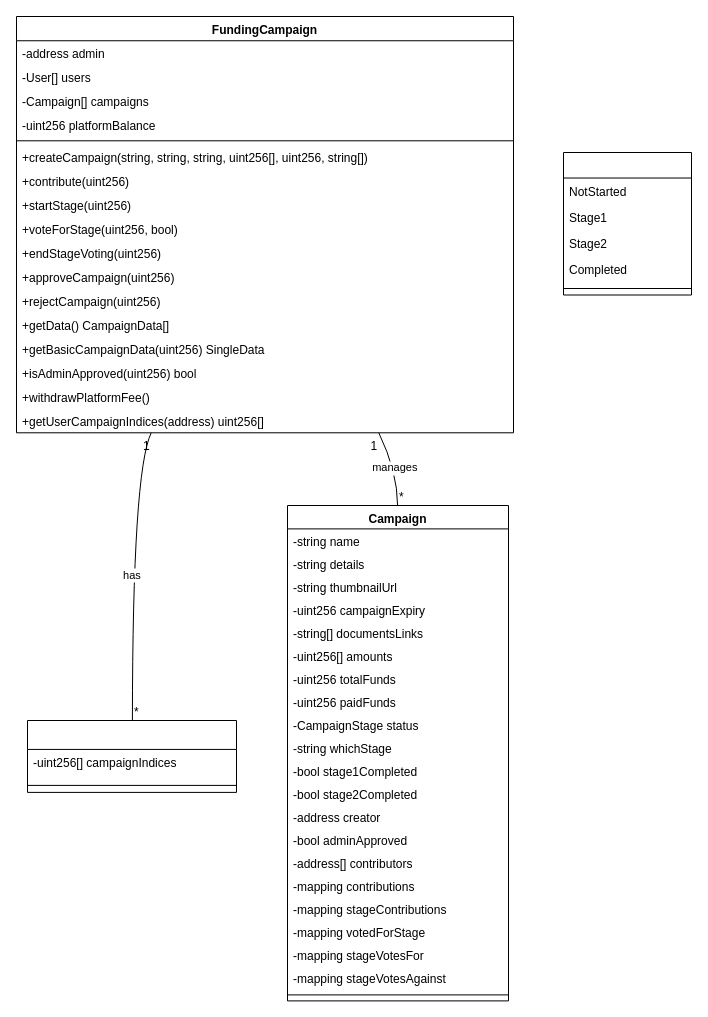
Some shapes in this 708 by 1017 pixel diagram are drawn without their labels. The box of each missing label's shape, as (x1, y1, x2, y2) in pixels:
CampaignStage: (562, 152, 692, 295)
User: (26, 720, 236, 792)
